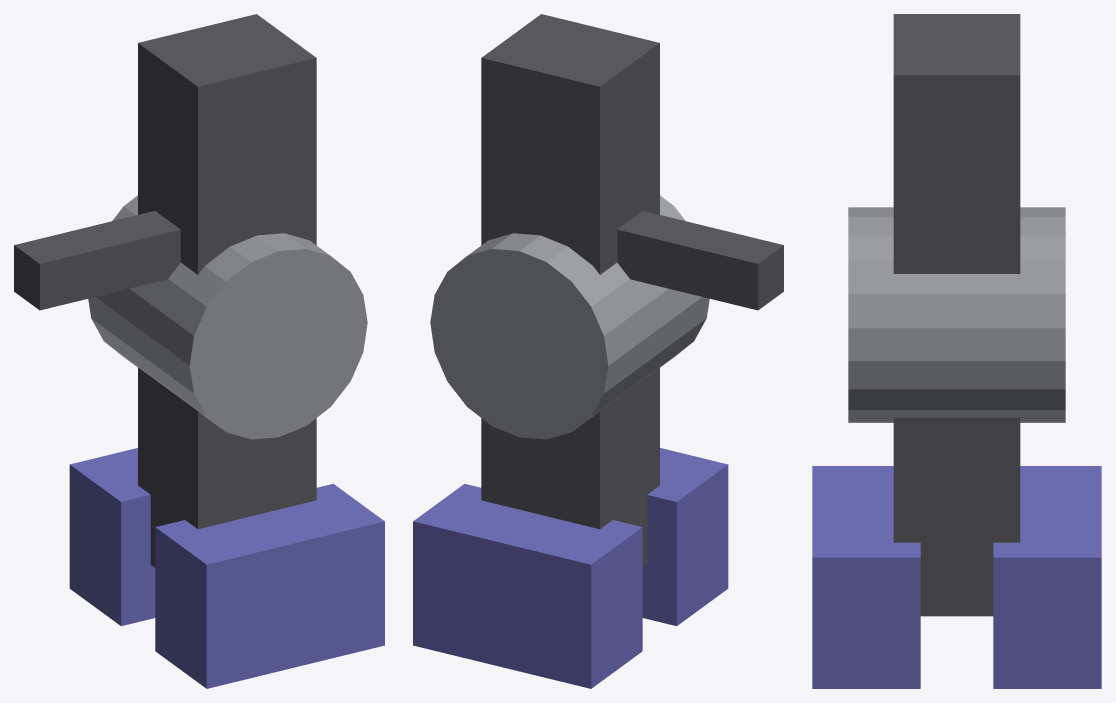
The model's file is buggy_hub.glb.
The picture shows the model from 3 angles, left to right: view 1: azimuth 30°, elevation 25°; view 2: azimuth 150°, elevation 25°; view 3: azimuth 270°, elevation 25°; orthographic projection. The views are drawn at different scales.
Parts seen in each view (by area): view 1: part3, part0, part2, part1, part4; view 2: part3, part0, part1, part2, part4; view 3: part3, part0, part1, part2.
Part boxes in pixels (x1,y1,x2,y2): part3: (138,14,316,567); part0: (88,195,367,439); part2: (155,483,384,688); part1: (69,448,155,626); part4: (14,211,180,310); part3: (481,14,659,567); part0: (430,195,709,439); part1: (413,483,642,688); part2: (642,448,728,626); part4: (617,211,783,310); part3: (893,14,1020,616); part0: (848,207,1065,422); part1: (993,466,1101,688); part2: (812,466,920,688).
Bounding box in the file's own units: 0.195 × 0.365 × 0.16.
